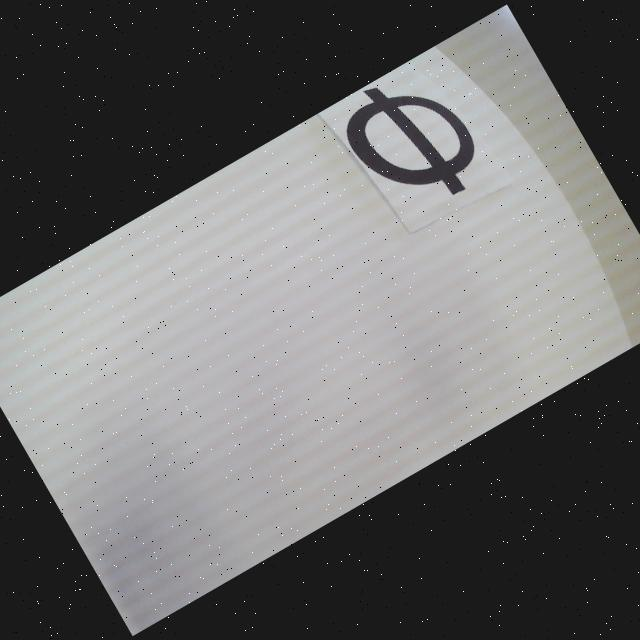PHI: (330, 54, 494, 228)
